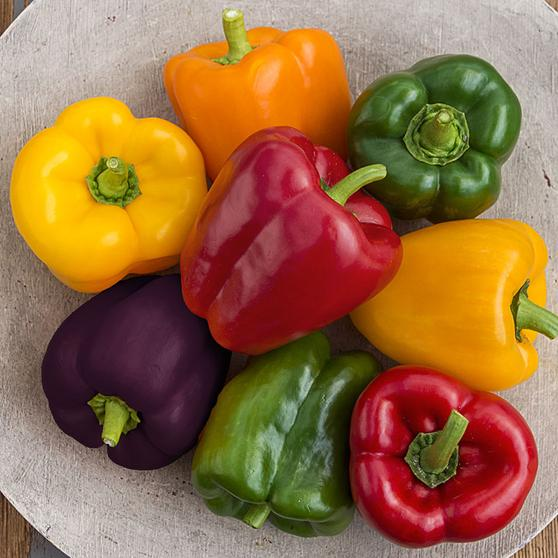pepper: (178, 123, 401, 343)
